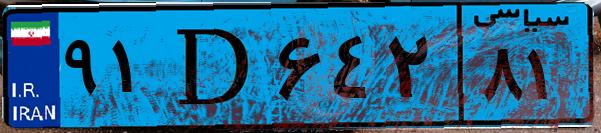1: (525, 38, 570, 115), (110, 28, 158, 98)
2: (385, 28, 445, 110)
4: (330, 28, 385, 110)
6: (270, 28, 330, 110)
8: (475, 38, 525, 113)
9: (57, 26, 110, 100)
D: (158, 12, 270, 120)
